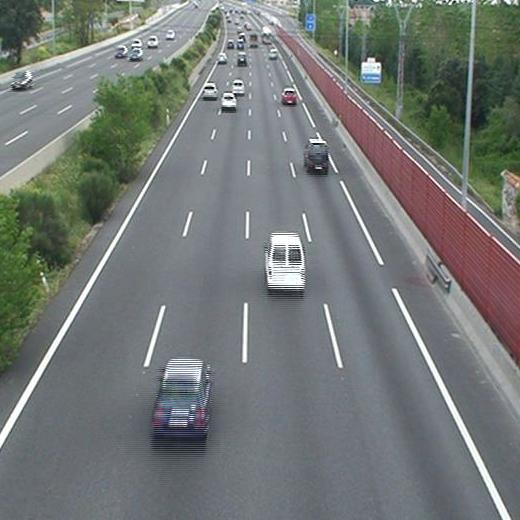car: (153, 359, 208, 435), (305, 140, 329, 169), (221, 92, 237, 109), (282, 88, 297, 104), (202, 83, 218, 98), (231, 79, 244, 95), (236, 53, 245, 65), (237, 38, 245, 50), (218, 53, 227, 63), (268, 50, 277, 59), (226, 40, 233, 49)
small-truck: (249, 32, 258, 48)
tank-truck: (261, 27, 271, 45)
van: (266, 234, 305, 290)
